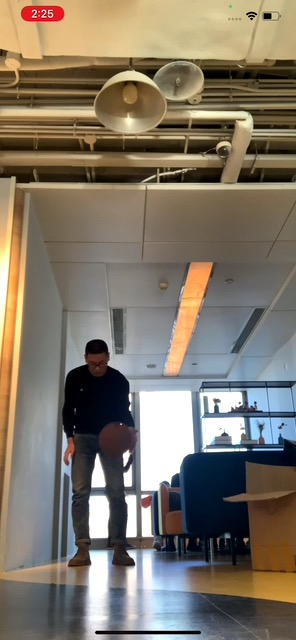ball: (98, 421, 134, 458)
